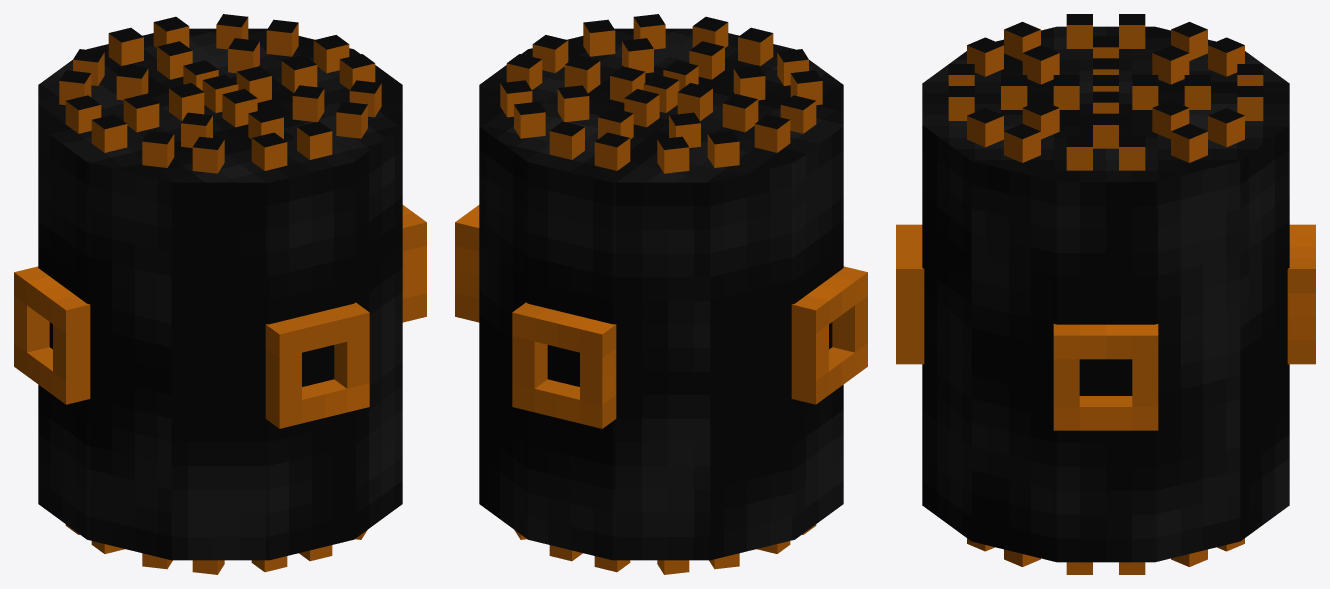
Rendered from steam_boiler.gltf.
3 renders of one model, left to right at view 1: azimuth 30°, elevation 25°; view 2: azimuth 150°, elevation 25°; view 3: azimuth 270°, elevation 25°, orthographic.
Parts seen in each view (by area): view 1: boiler_pipe; view 2: boiler_pipe; view 3: boiler_pipe.
Part boxes in pixels (x1,y1,x2,y2): boiler_pipe: (14, 14, 426, 574); boiler_pipe: (455, 14, 867, 574); boiler_pipe: (896, 14, 1315, 574).
Size of the model in its own units: 10 by 11.25 by 10.
Materials: 1 (1 with a texture image).
